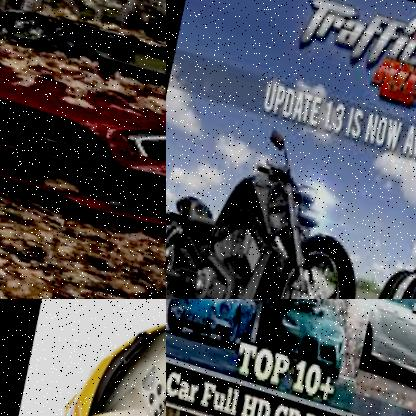bike: (166, 94, 395, 299)
car: (0, 299, 166, 416), (351, 299, 416, 406), (266, 299, 359, 373), (166, 299, 263, 352)
